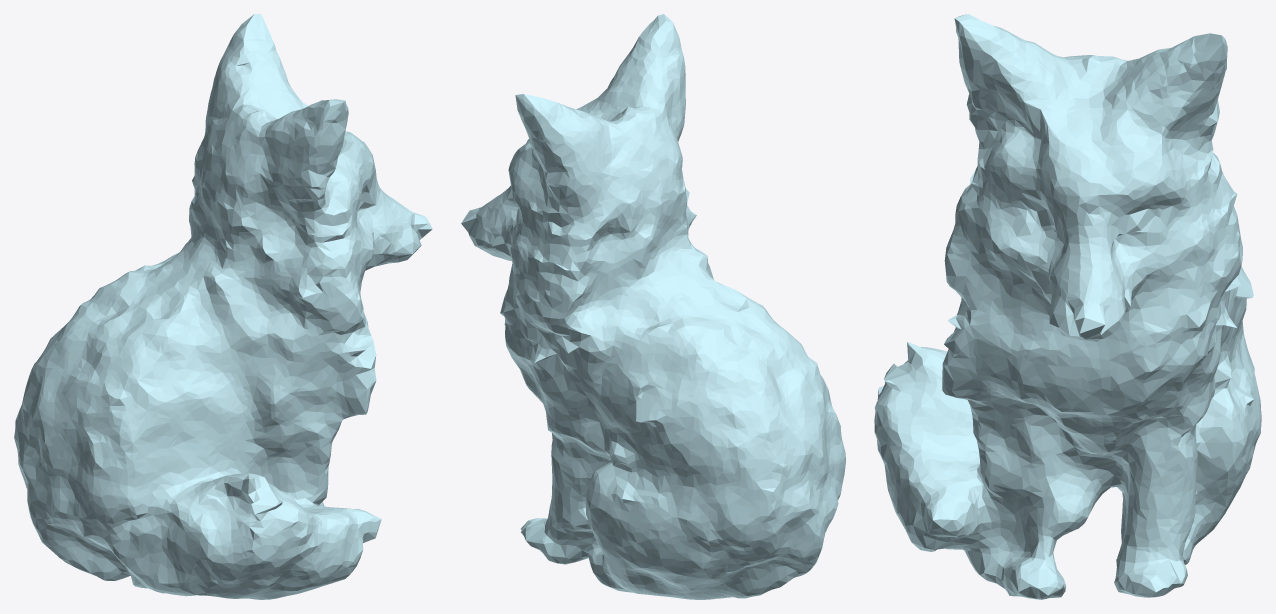
File: fox-normal.glb
3 views of the same model, side by side, from view 1: azimuth 30°, elevation 25°; view 2: azimuth 150°, elevation 25°; view 3: azimuth 270°, elevation 25° (orthographic). The views are drawn at different scales.
Parts seen in each view (by area): view 1: extracted_mesh; view 2: extracted_mesh; view 3: extracted_mesh.
Boxes of the visible parts, <box> form: extracted_mesh: <box>14,14,432,599</box>; extracted_mesh: <box>461,14,845,599</box>; extracted_mesh: <box>874,14,1261,599</box>.
Bounding box in the file's own units: 0.8474 × 1.07 × 0.6465.
1 material, 1 textured.
